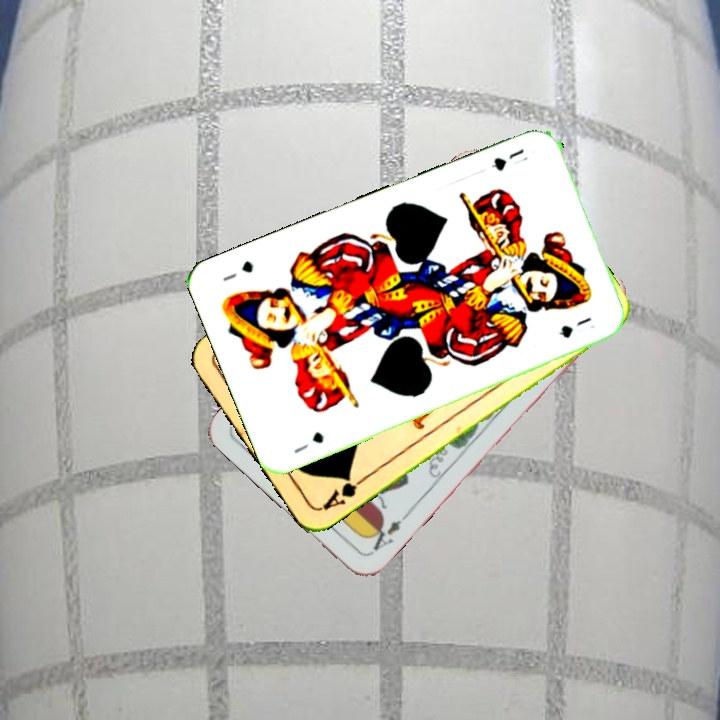EA: (363, 509, 412, 557)
GA: (317, 471, 369, 513)
GU: (487, 144, 527, 174), (290, 427, 327, 456)
